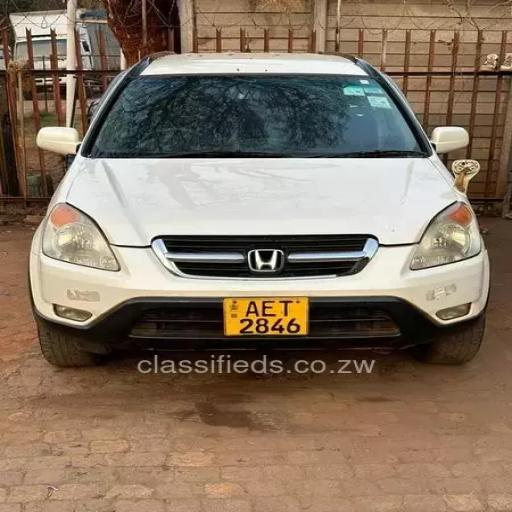number-plates: (225, 298, 307, 338)
